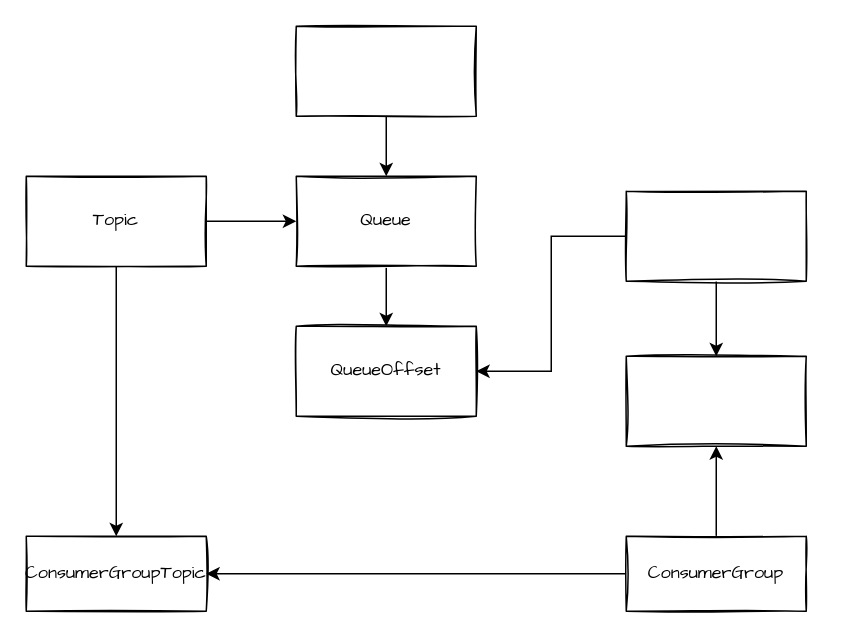
The diagram is 852 pixels wide and 638 high, and some of its shapes have lost their labels. Each missing label, with the centre of its shape:
Consumer: the point at 715,235
ConsumerGroupConsumer: the point at 715,400
DbNode: the point at 385,70
